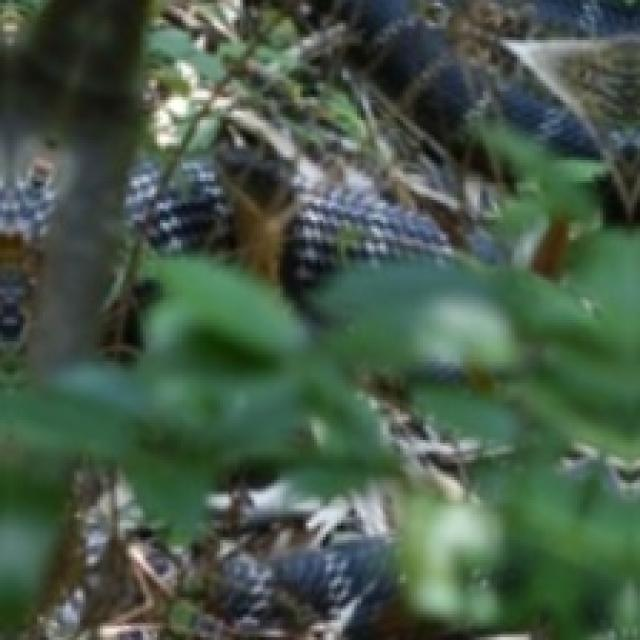king cobra: (126, 121, 580, 292), (290, 0, 639, 222), (21, 488, 398, 639), (0, 154, 58, 352), (105, 281, 154, 354)
